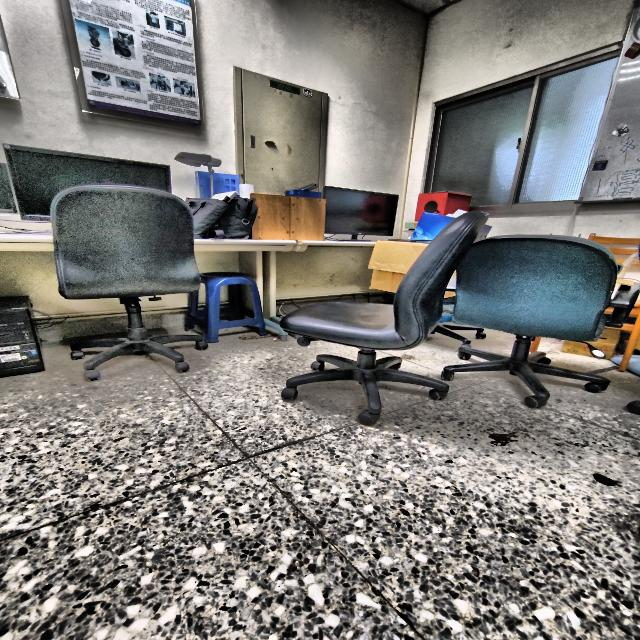cadeira: (275, 202, 485, 417), (37, 163, 203, 377), (441, 223, 638, 403), (201, 256, 271, 357)
